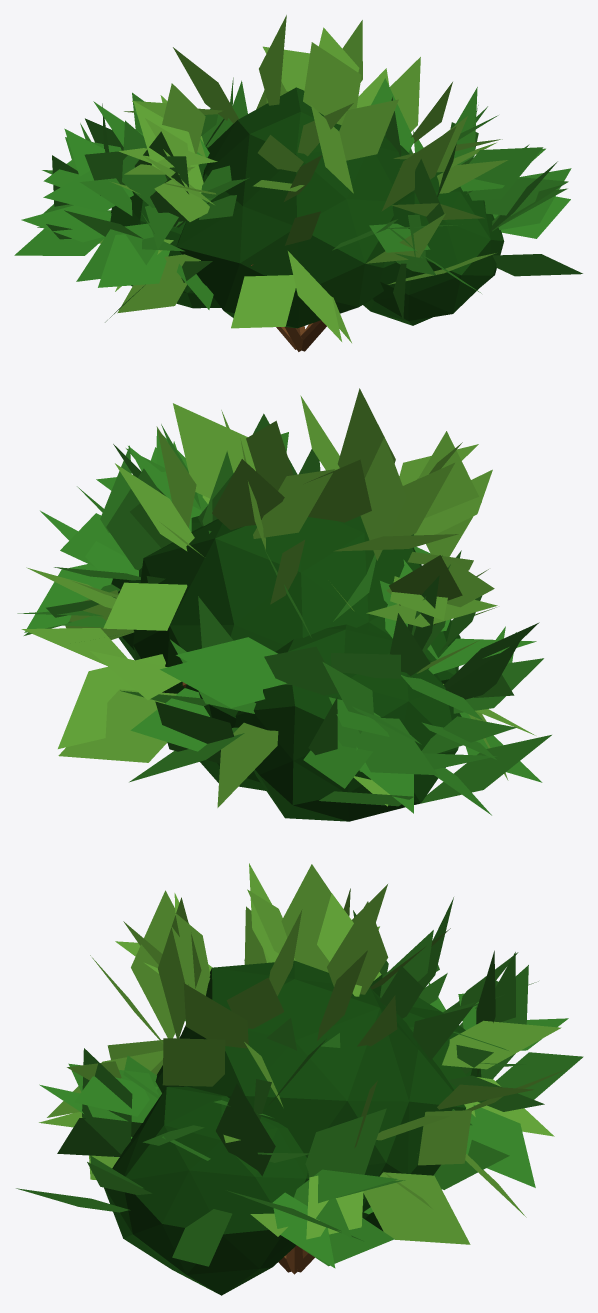
File: bush.glb
The picture shows the model from 3 angles, top to bottom: view 1: azimuth 30°, elevation 25°; view 2: azimuth 150°, elevation 25°; view 3: azimuth 270°, elevation 25°; orthographic projection. The views are drawn at different scales.
Parts seen in each view (by area): view 1: bush; view 2: bush; view 3: bush.
Part boxes in pixels (<box>): bush: <box>14,15,582,351</box>; bush: <box>17,388,551,821</box>; bush: <box>16,863,583,1295</box>.
Size of the model in its own units: 2.21 by 1.44 by 1.95.
